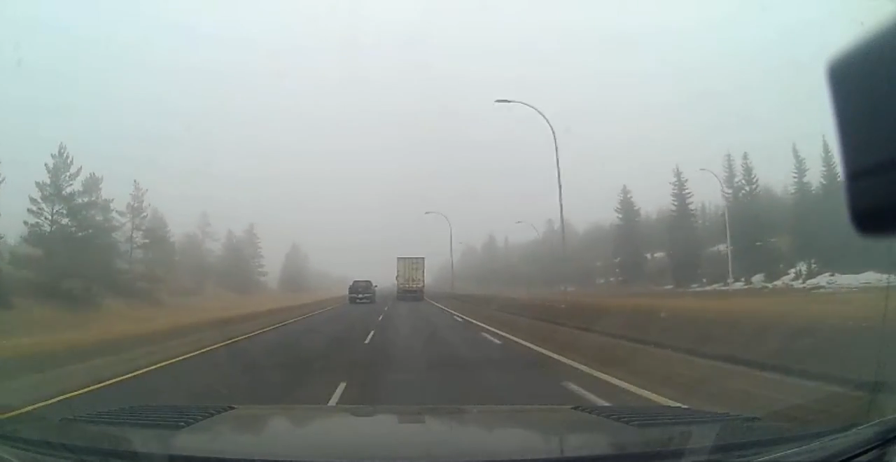bus: (394, 255, 427, 300)
car: (347, 278, 379, 304)
